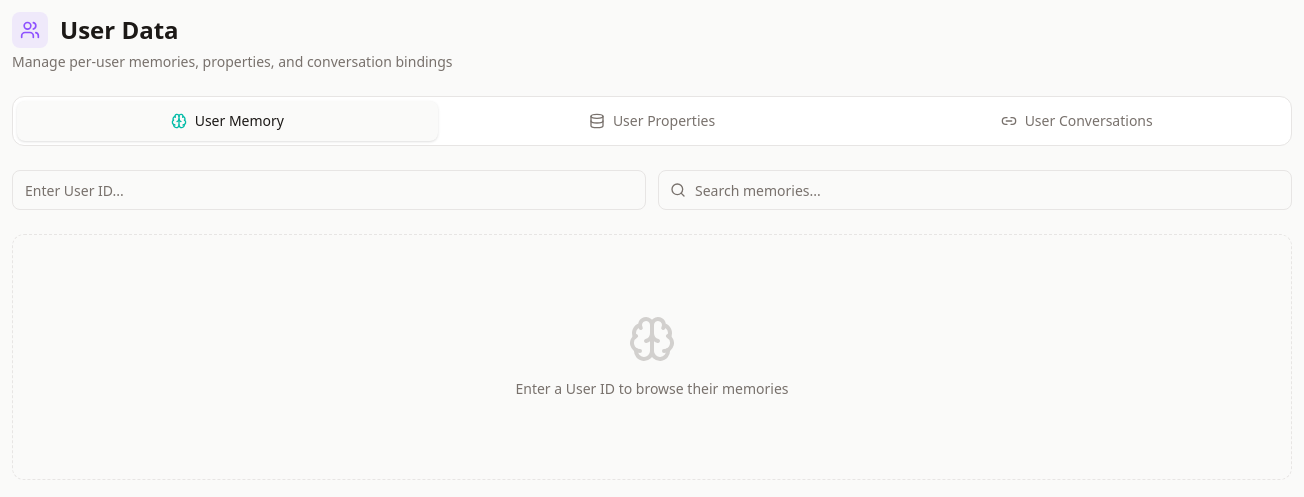
Test: UserDataPage › switches to Properties tab on click
Click the tab with test id "tab-properties" at (652, 121), box [442,101,862,141]
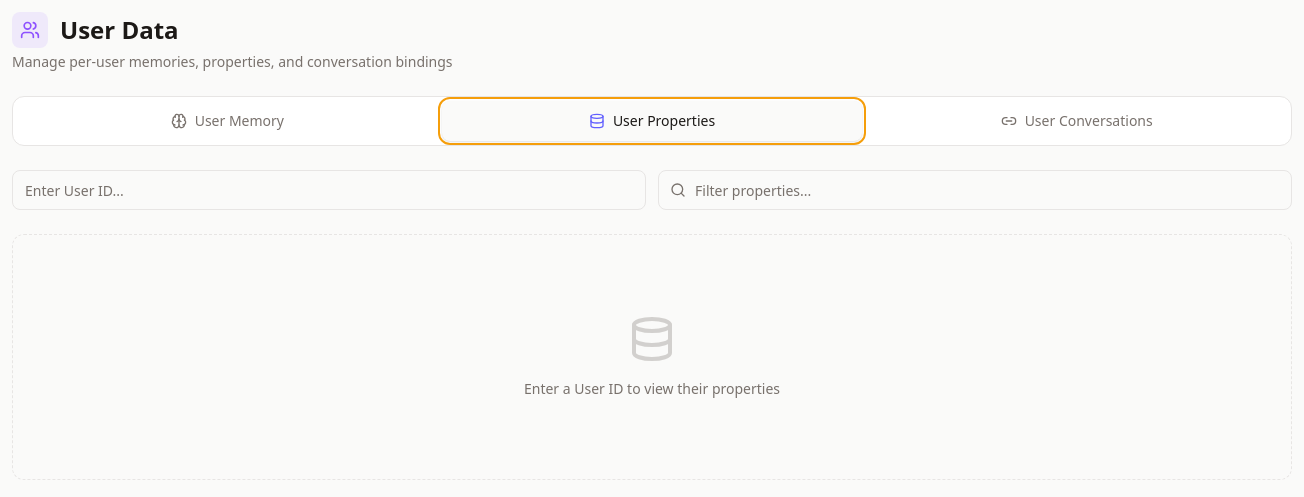
Expected: the element with test id "properties-page" is shown
Expected: the element with test id "user-memory-page" is gone
